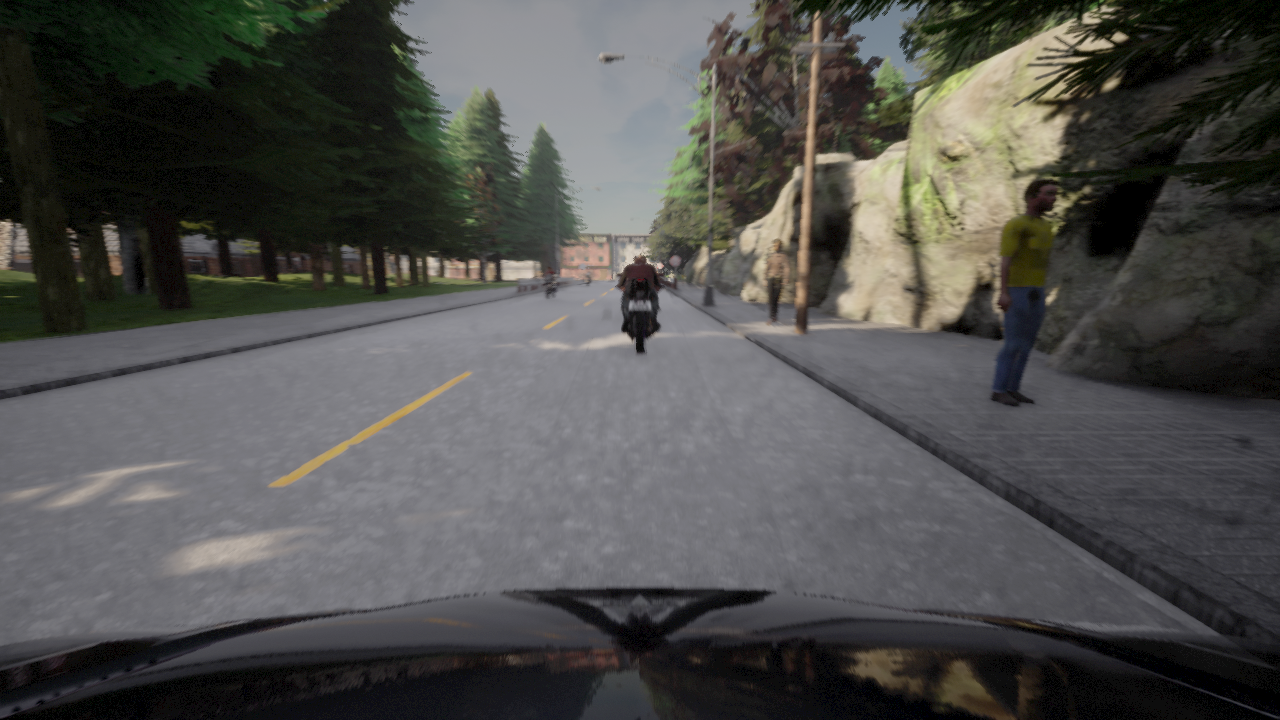cyclist: (0, 588, 1279, 719), (616, 274, 663, 353), (539, 274, 557, 299), (585, 274, 591, 286)
pedestrian: (990, 180, 1059, 406), (763, 240, 789, 324), (681, 273, 684, 285)
